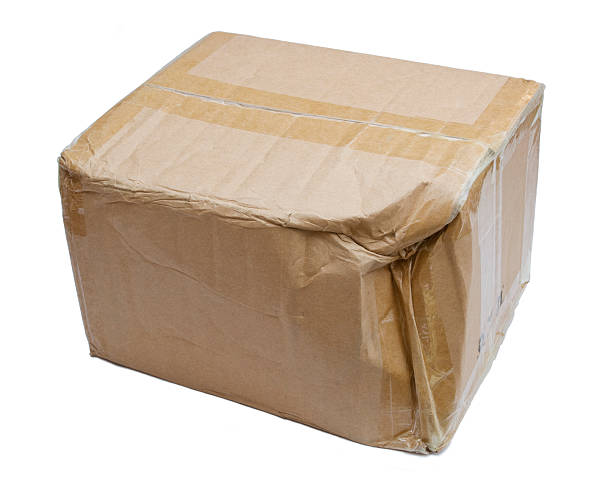damaged package: (293, 191, 478, 449)
